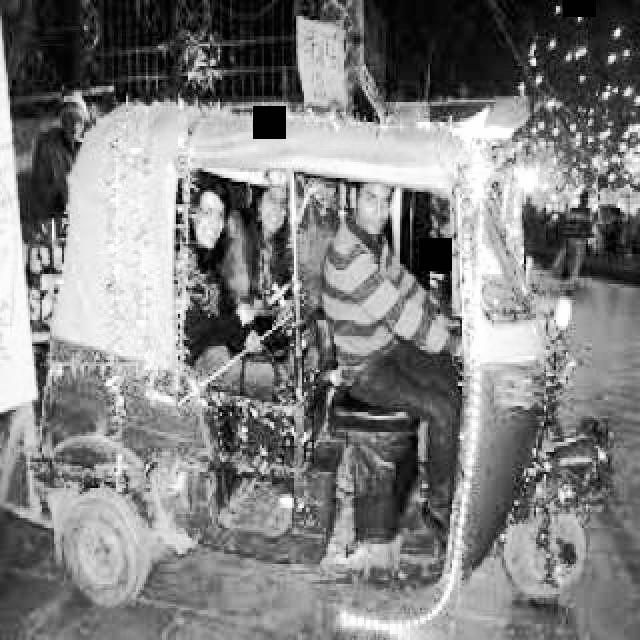Auto-Rickshaw: (50, 104, 622, 640)
